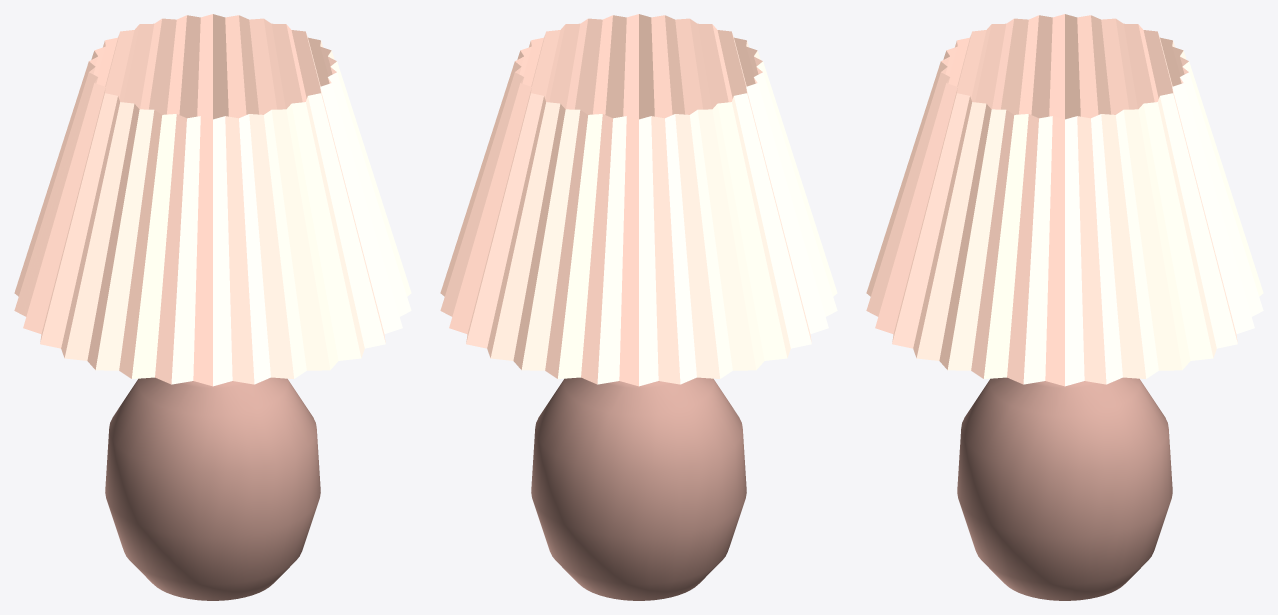
File: obj-lamp-pleated-rose.glb
3 renders of one model, left to right at view 1: azimuth 30°, elevation 25°; view 2: azimuth 150°, elevation 25°; view 3: azimuth 270°, elevation 25°, orthographic.
Visible parts, largest first — view 1: obj-lamp-pleated-rose; view 2: obj-lamp-pleated-rose; view 3: obj-lamp-pleated-rose.
Boxes of the visible parts, x1,y1,x2,y2 form: obj-lamp-pleated-rose: (14,14,411,600); obj-lamp-pleated-rose: (440,14,837,600); obj-lamp-pleated-rose: (866,14,1263,600).
Bounding box in the file's own units: 0.4 × 0.56 × 0.3978.
